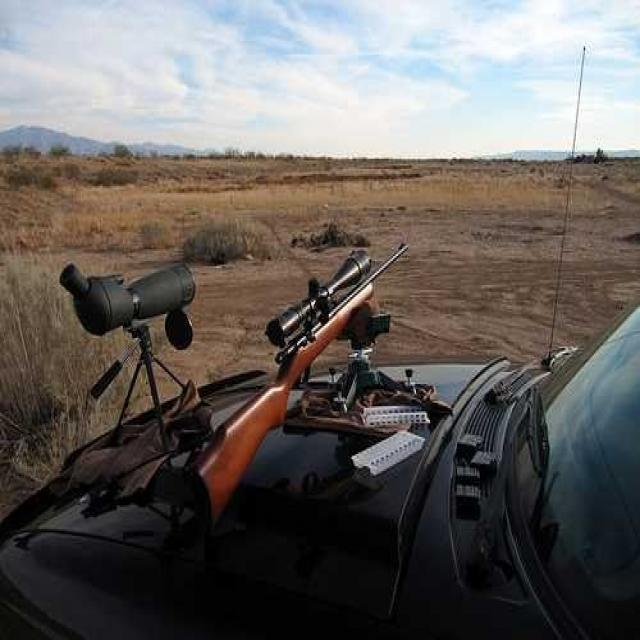weapon: (166, 210, 430, 565)
